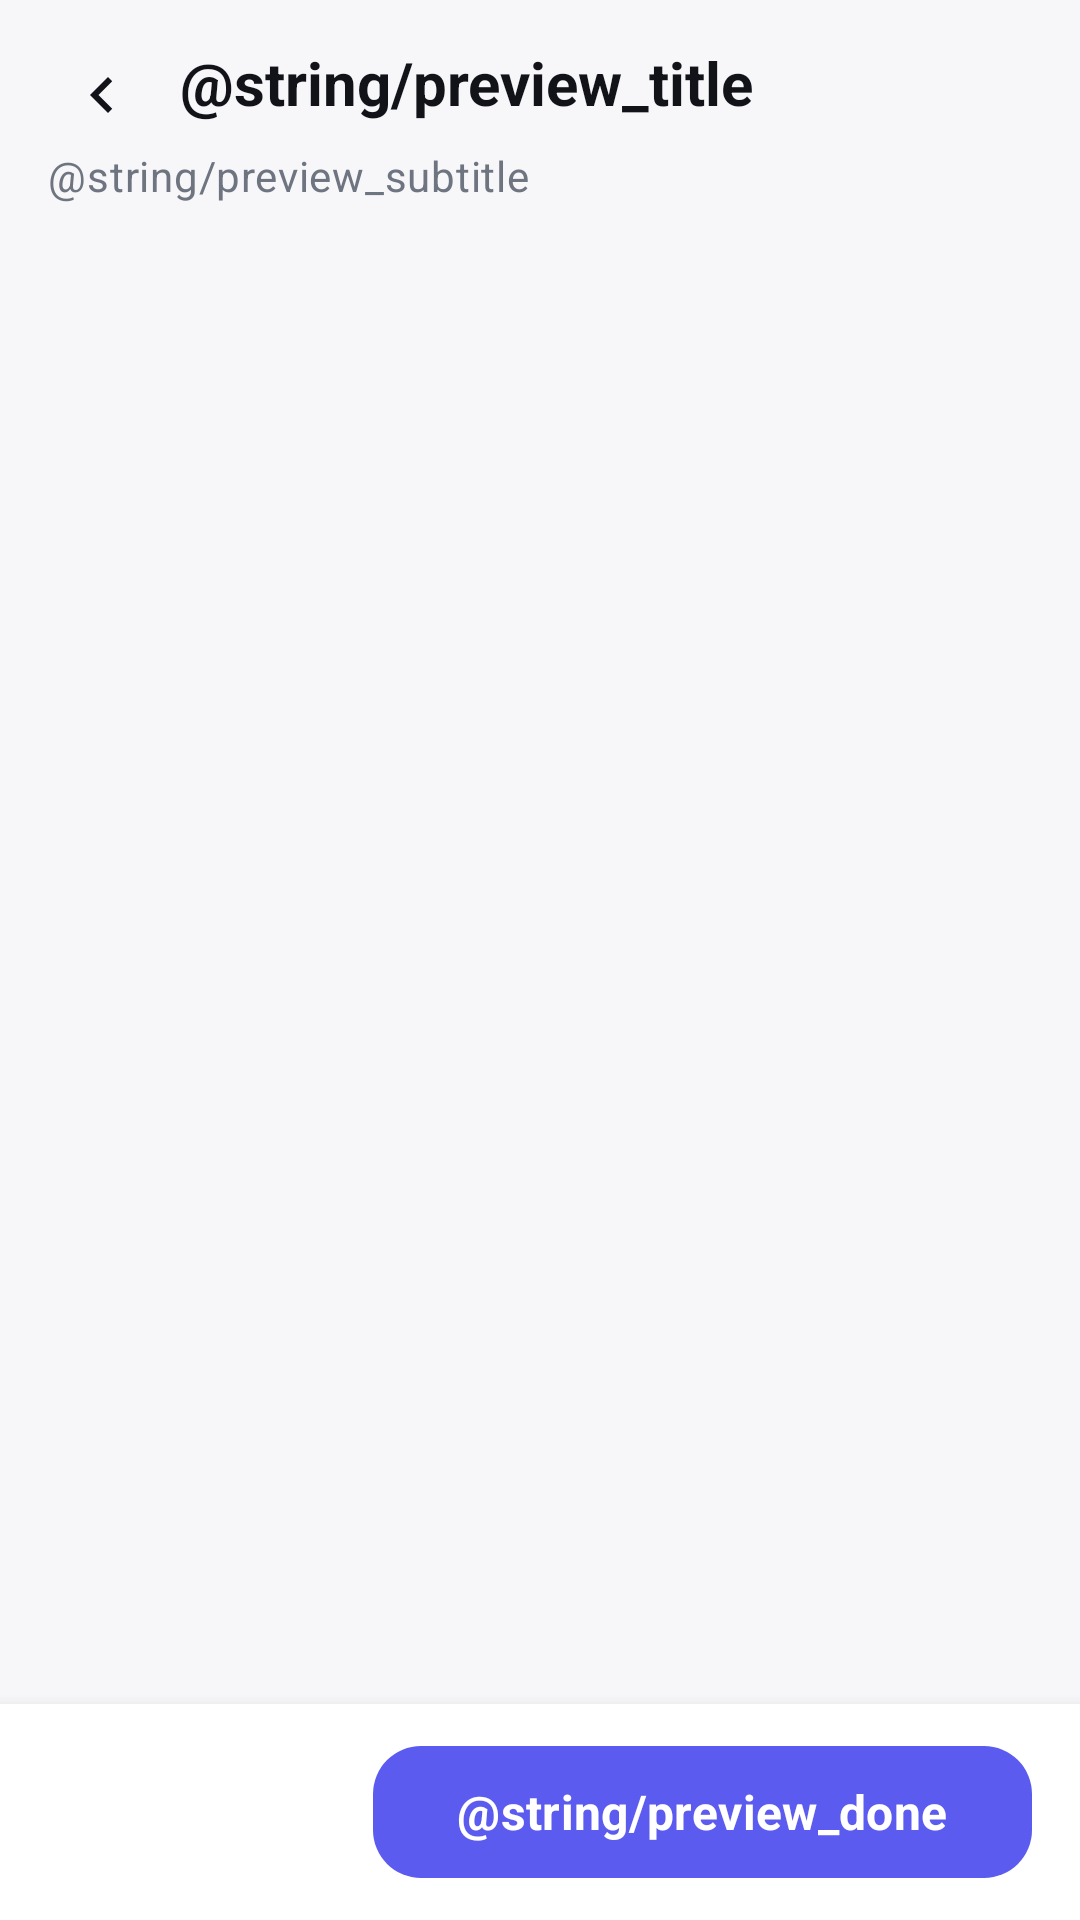

Icons on this 1080px×1920px Android screen, each with the point to tap as [x,y]:
Back: [101,95]
